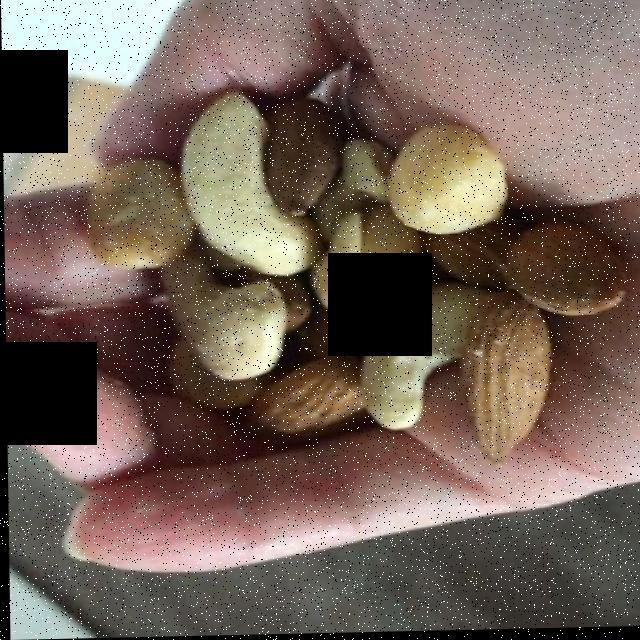mixed-nuts: (79, 105, 611, 497)
